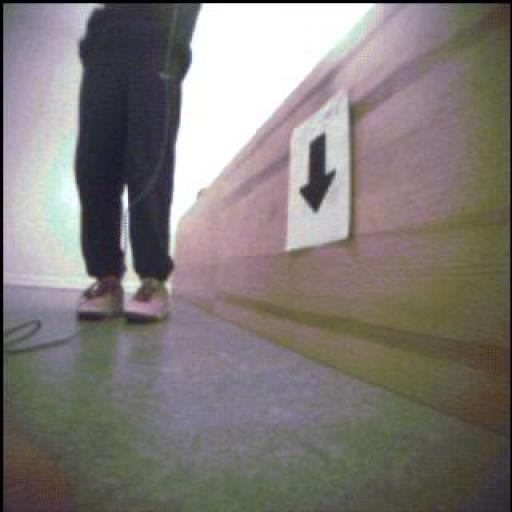Arrow: (302, 134, 337, 214)
